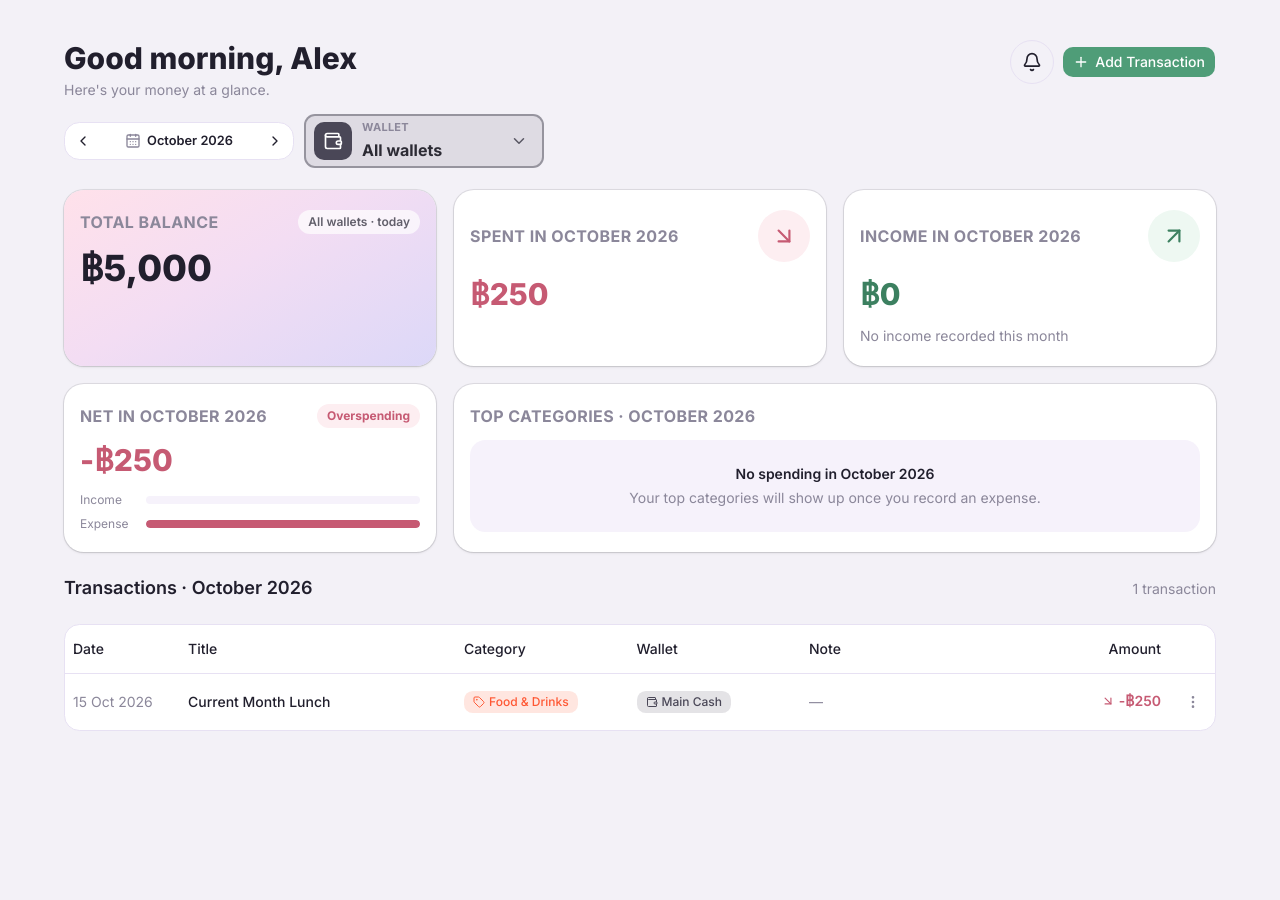
Scenario: Task 59 — Month Navigation on HomePage › navigates to previous month (past) and displays empty-month state when no data exists
This screenshot has width=1280, height=900.
// Click Previous month button in MonthPicker
Step 1. Click the button named "Previous month" → (83, 141), box [69,127,97,155]
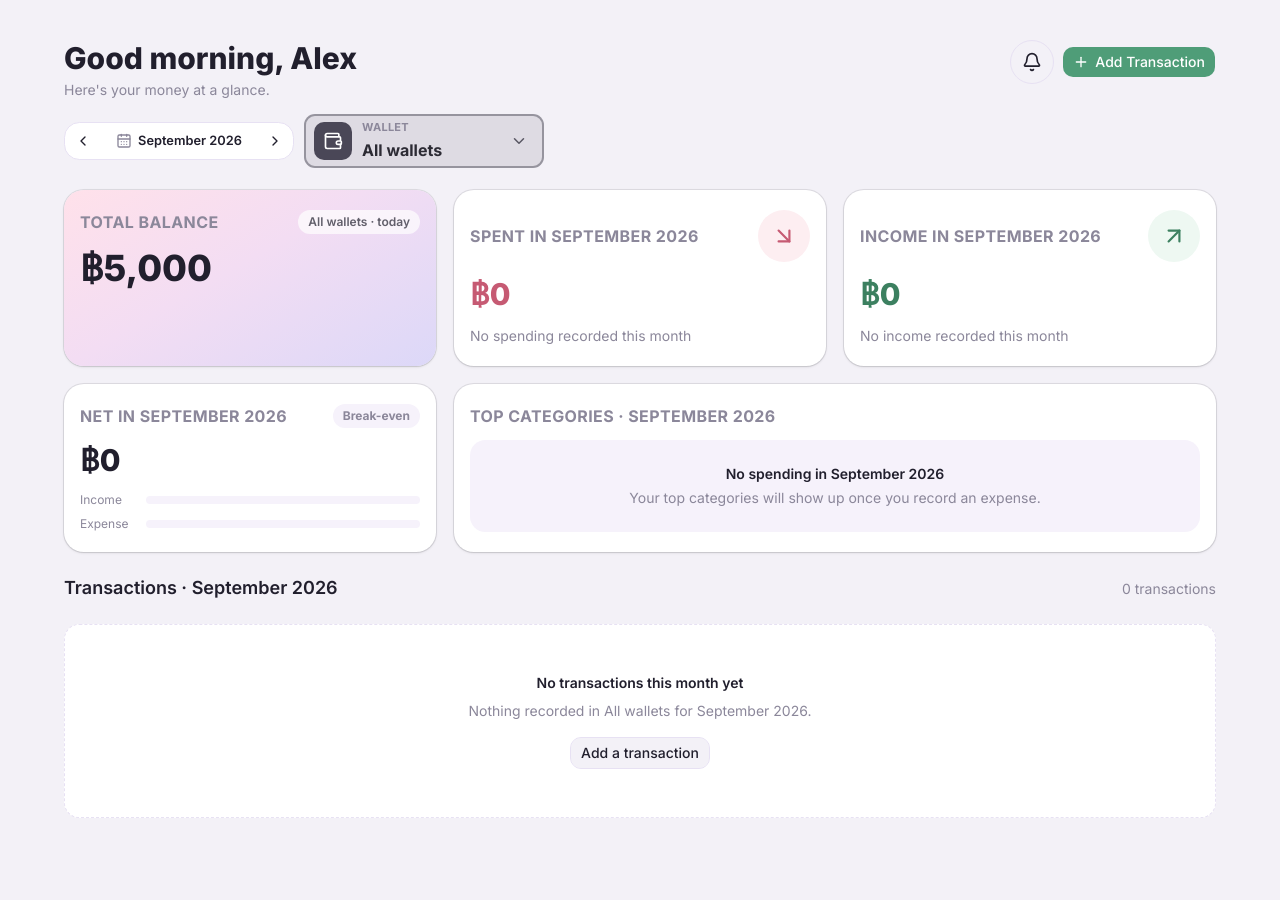
Now the text "No transactions this month yet" is shown, box [537,673,743,693]
Now the button "Add a transaction" is shown, box [570,737,710,769]
Now the text "Current Month Lunch" is gone
